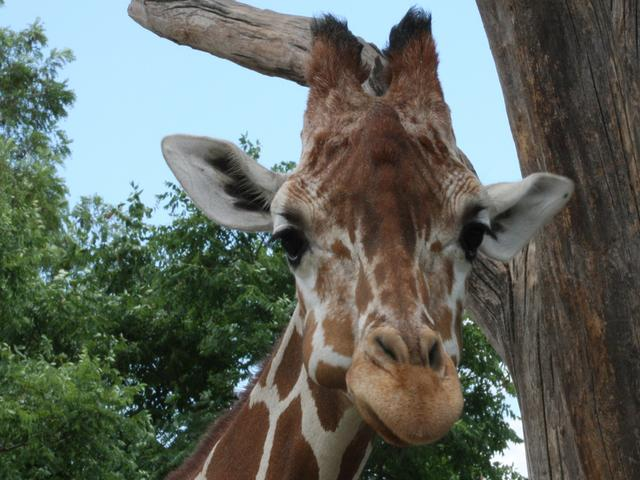giraffe: (53, 7, 608, 480)
